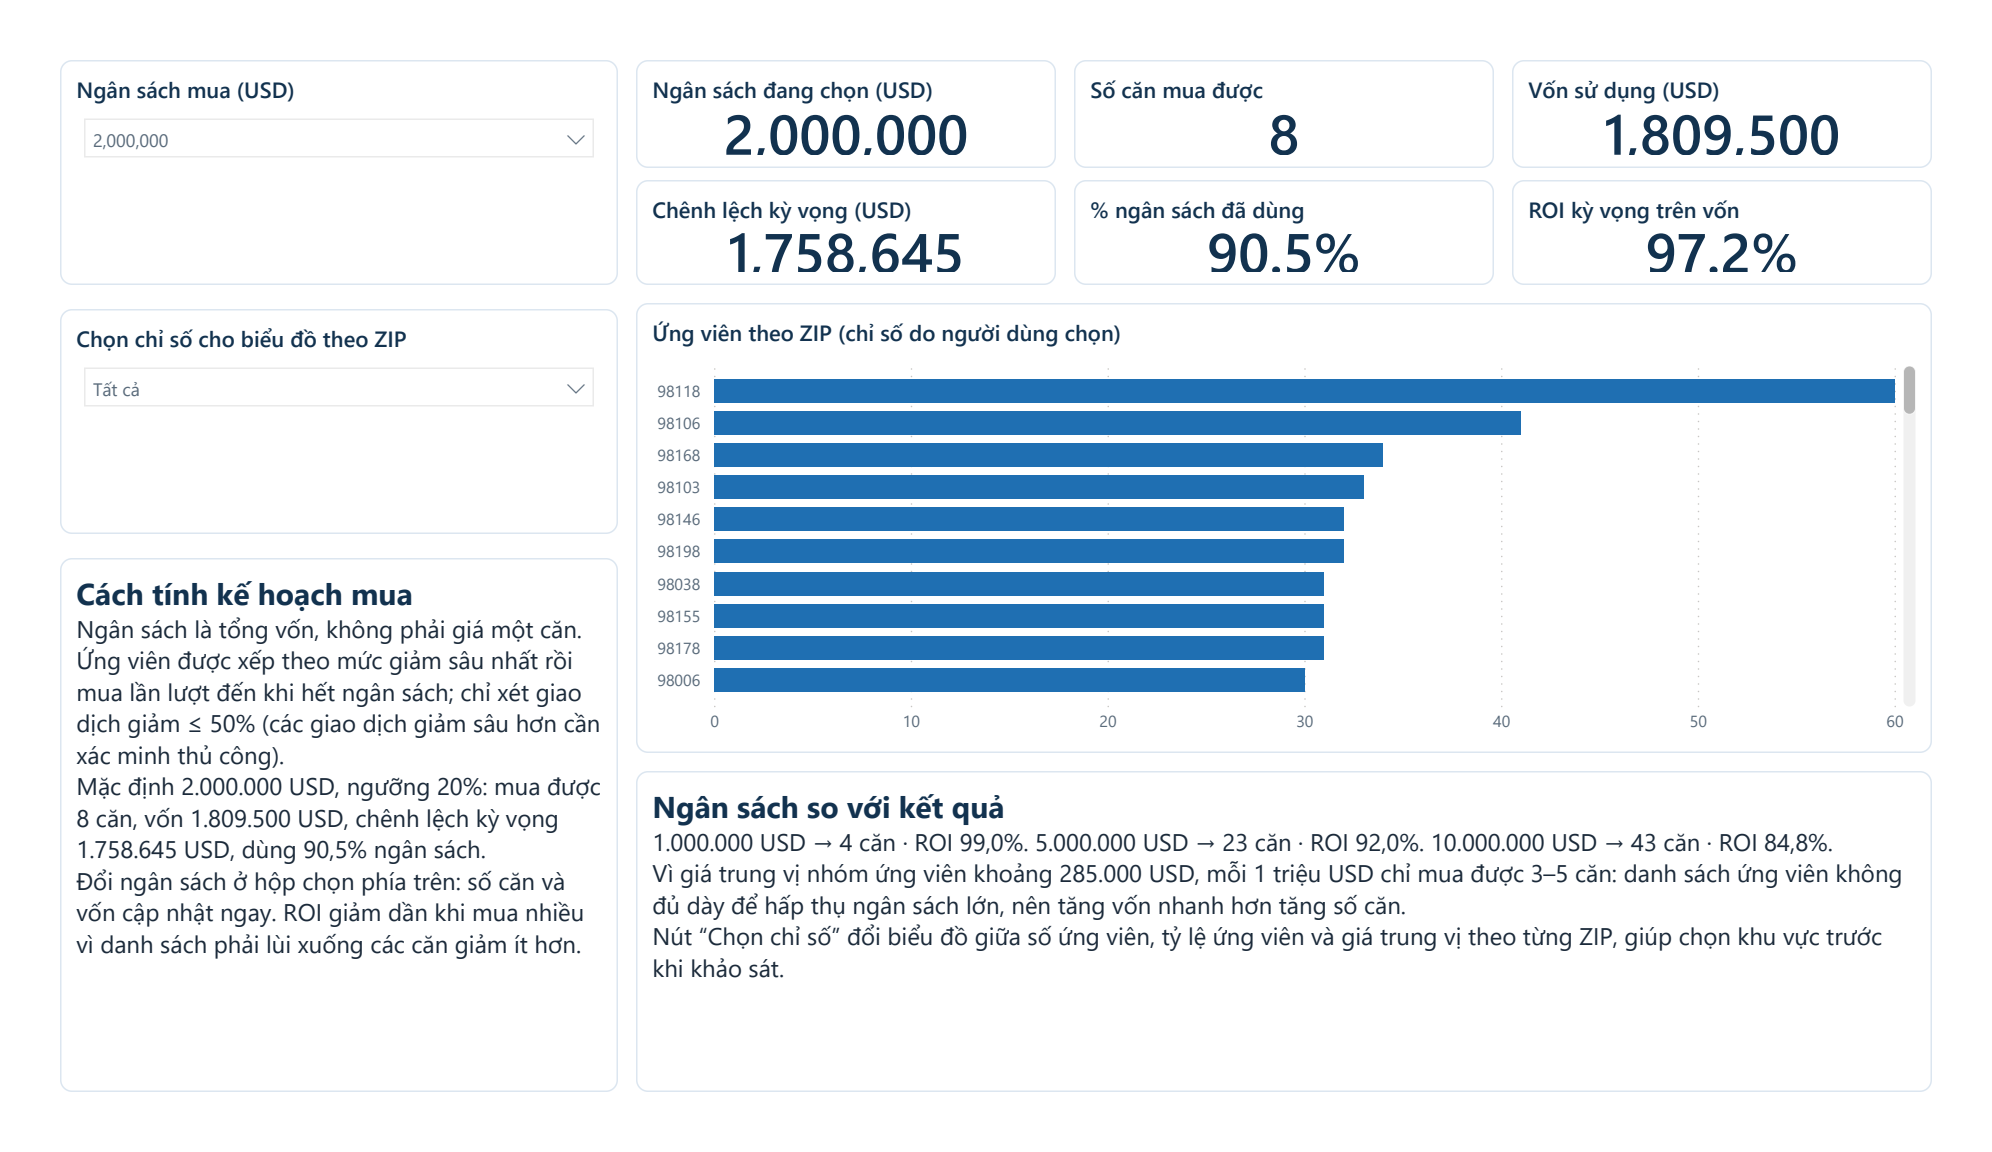

Layout of this report page (visuals, bound fields, positions):
{"tool":"powerbi","page":{"name":"3. Ngân sách và kế hoạch mua","canvas":[1280,720],"ordinal":2},"visuals":[{"type":"slicer","title":"Ngân sách mua (USD)","fields":{"Values":["NganSach.Value"]},"box":[16,16,372,150],"z":1},{"type":"card","title":"Ngân sách đang chọn (USD)","fields":{"Values":["KPI.SelectedBudget Text"]},"box":[400,16,280,72],"z":1},{"type":"card","title":"Số căn mua được","fields":{"Values":["KPI.BudgetBought Text"]},"box":[692,16,280,72],"z":1},{"type":"card","title":"Vốn sử dụng (USD)","fields":{"Values":["KPI.BudgetCapital Text"]},"box":[984,16,280,72],"z":1},{"type":"card","title":"Chênh lệch kỳ vọng (USD)","fields":{"Values":["KPI.BudgetUpside Text"]},"box":[400,96,280,70],"z":1},{"type":"card","title":"% ngân sách đã dùng","fields":{"Values":["KPI.Budget Used"]},"box":[692,96,280,70],"z":1},{"type":"card","title":"ROI kỳ vọng trên vốn","fields":{"Values":["KPI.Budget ROI"]},"box":[984,96,280,70],"z":1},{"type":"barChart","title":"Ứng viên theo ZIP (chỉ số do người dùng chọn)","fields":{"Category":["KingSales.ZIP"],"Y":["KPI.Chỉ số đang chọn"]},"box":[400,178,864,300],"z":1},{"type":"slicer","title":"Chọn chỉ số cho biểu đồ theo ZIP","fields":{"Values":["ChonChiSo.Chỉ số"]},"box":[16,182,372,150],"z":1},{"type":"textbox","box":[16,348,372,356],"z":1},{"type":"textbox","box":[400,490,864,214],"z":1}]}

Visuals, with their boxes in screenshot pixels (x1, y1, x2, y2), scaled from the page's 1280x720 canvas onto the 1992x1152 screenshot:
"Ngân sách mua (USD)" slicer: [25,26,604,266]
"Ngân sách đang chọn (USD)" card: [622,26,1058,141]
"Số căn mua được" card: [1077,26,1513,141]
"Vốn sử dụng (USD)" card: [1531,26,1967,141]
"Chênh lệch kỳ vọng (USD)" card: [622,154,1058,266]
"% ngân sách đã dùng" card: [1077,154,1513,266]
"ROI kỳ vọng trên vốn" card: [1531,154,1967,266]
"Ứng viên theo ZIP (chỉ số do người dùng chọn)" barChart: [622,285,1967,765]
"Chọn chỉ số cho biểu đồ theo ZIP" slicer: [25,291,604,531]
textbox: [25,557,604,1126]
textbox: [622,784,1967,1126]
